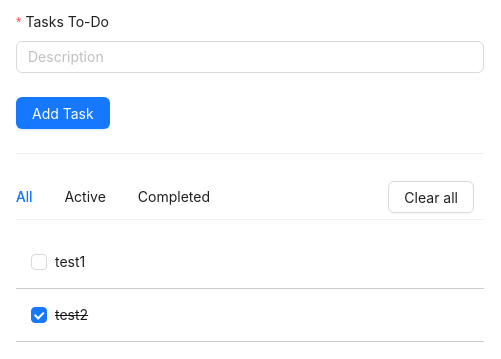
Test: MainView › should switch tab to Active and not find completed items
Check: the text "test2" is shown, box [55,304,88,326]
Click the tab "Active": (85, 197) [64,186,106,208]
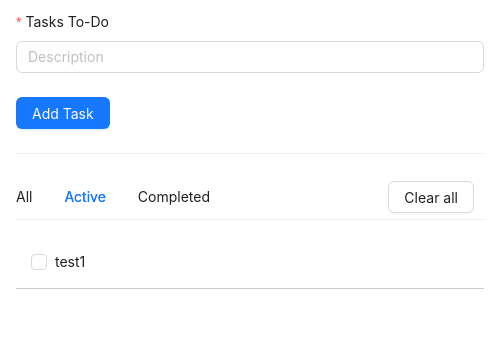
Check: the text "test2" is gone
